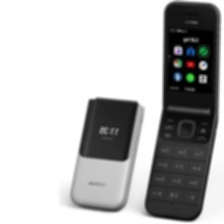phone: (142, 0, 221, 224), (59, 92, 145, 218)
